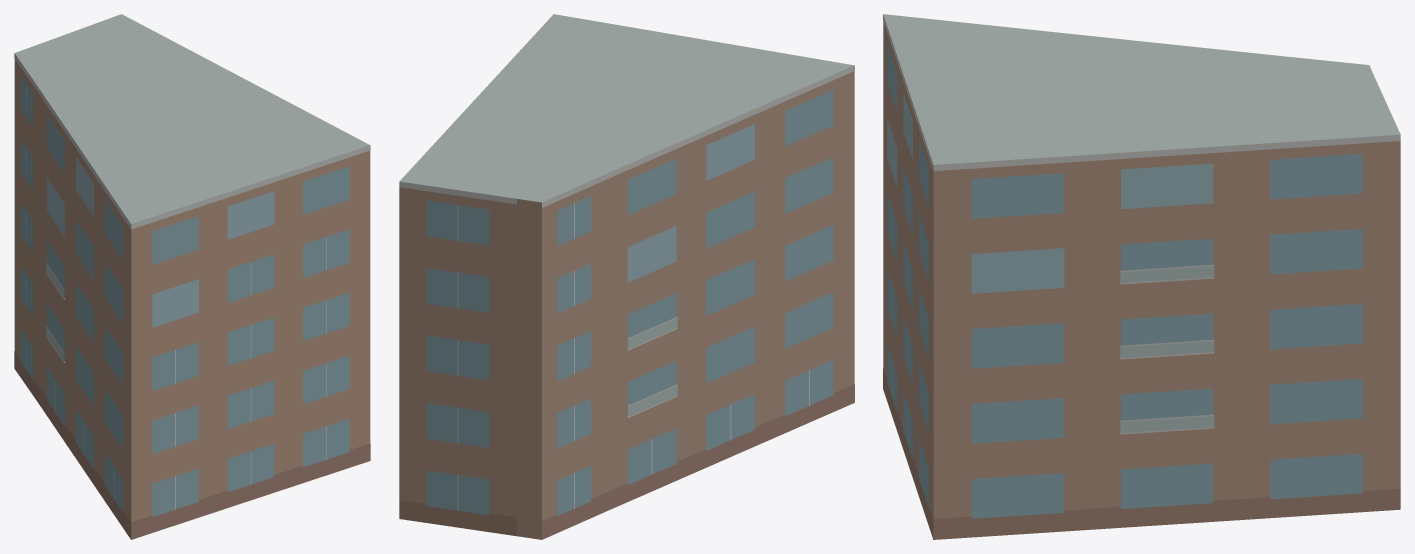
File: survey-upis-32575955.glb
3 renders of one model, left to right at view 1: azimuth 30°, elevation 25°; view 2: azimuth 150°, elevation 25°; view 3: azimuth 270°, elevation 25°, orthographic. The views are drawn at different scales.
Visible parts, largest first — view 1: survey-upis-32575955.tmp; view 2: survey-upis-32575955.tmp; view 3: survey-upis-32575955.tmp.
Boxes of the visible parts, <box> form: survey-upis-32575955.tmp: <box>14,14,370,539</box>; survey-upis-32575955.tmp: <box>399,14,854,539</box>; survey-upis-32575955.tmp: <box>883,14,1400,539</box>.
Size of the model in its own units: 12.7 by 14.7 by 18.4.
